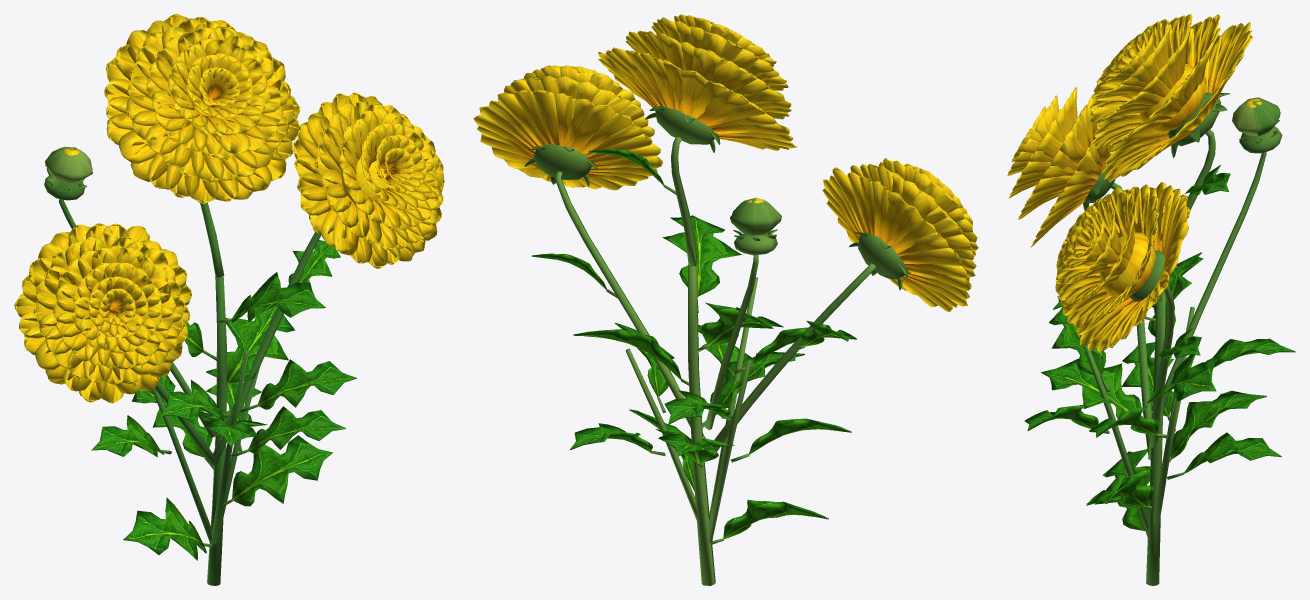
Rendered from NP_Chrysanthemum_Ready.fbx.
The picture shows the model from 3 angles, left to right: view 1: azimuth 30°, elevation 25°; view 2: azimuth 150°, elevation 25°; view 3: azimuth 270°, elevation 25°; orthographic projection. The views are drawn at different scales.
Visible parts, largest first — view 1: NP_Chrysanthemum_Ready; view 2: NP_Chrysanthemum_Ready; view 3: NP_Chrysanthemum_Ready.
Part boxes in pixels (x1,y1,x2,y2): NP_Chrysanthemum_Ready: [14, 14, 444, 585]; NP_Chrysanthemum_Ready: [473, 14, 978, 585]; NP_Chrysanthemum_Ready: [1007, 14, 1295, 585].
Bounding box in the file's own units: 68.67 × 80.8 × 37.79.
